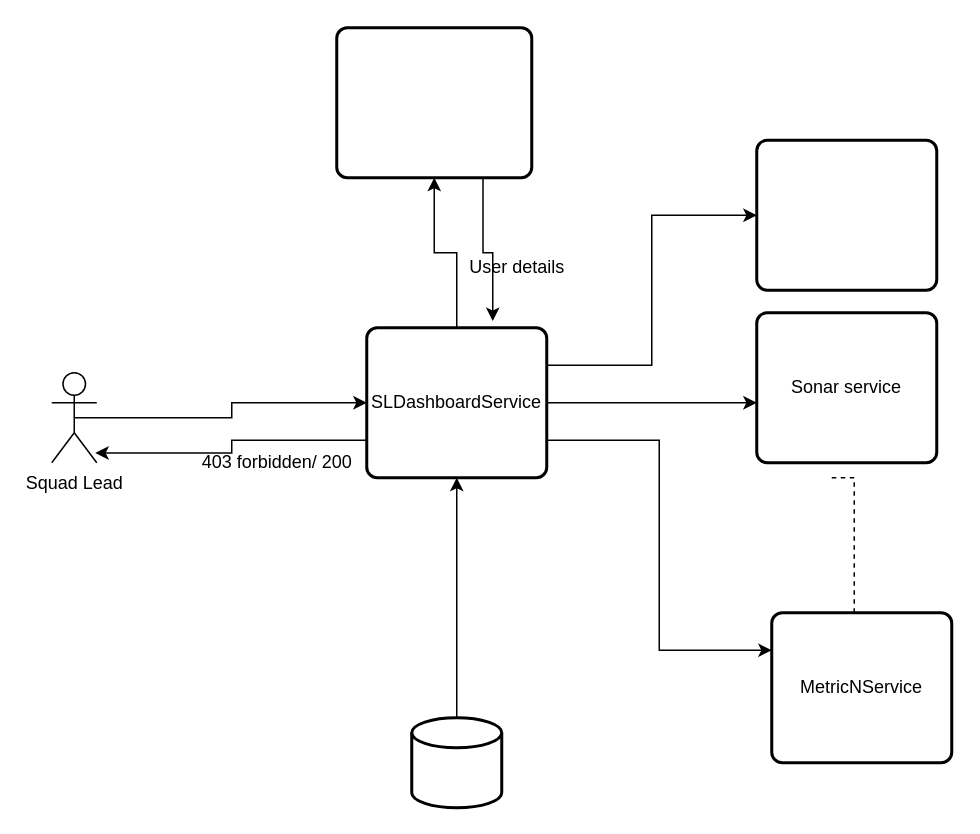
This 980x834 diagram has some shape labels left out. Each missing label, with the centre of its shape:
"JIRA service" belongs at [846,214].
"User Identification Service" belongs at [433,102].
